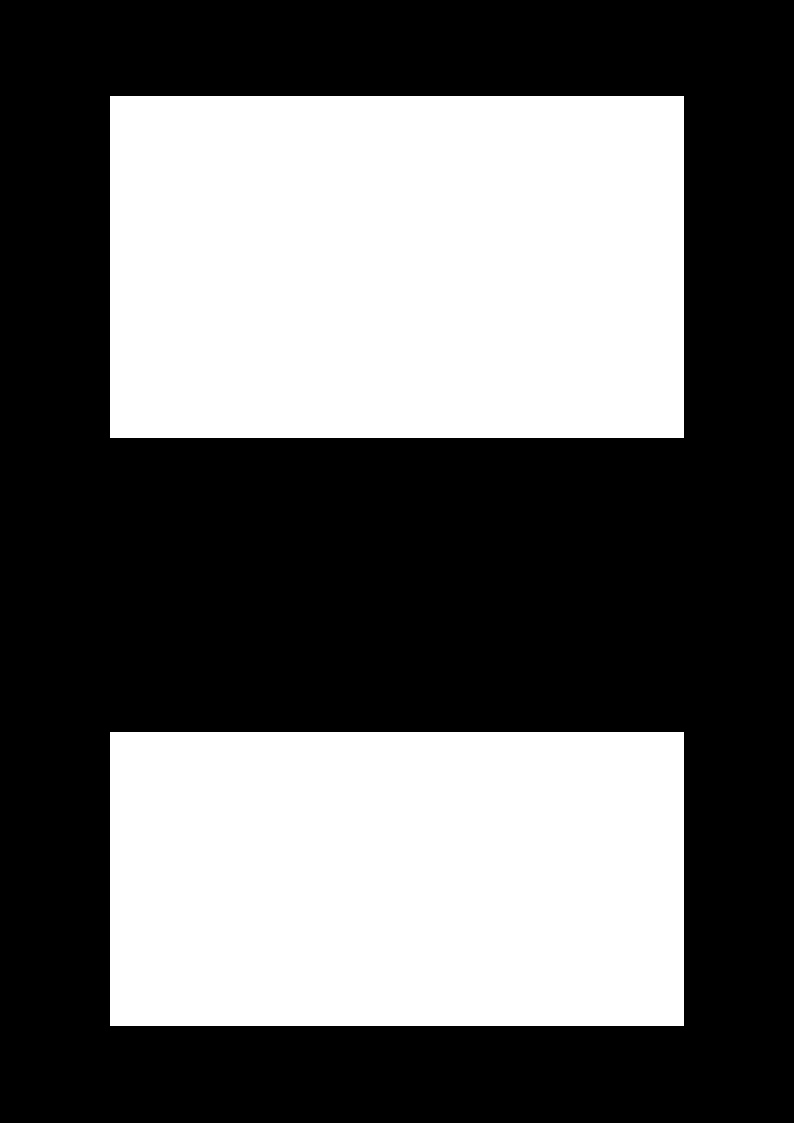table: (110, 96, 683, 437), (110, 732, 683, 1025)
